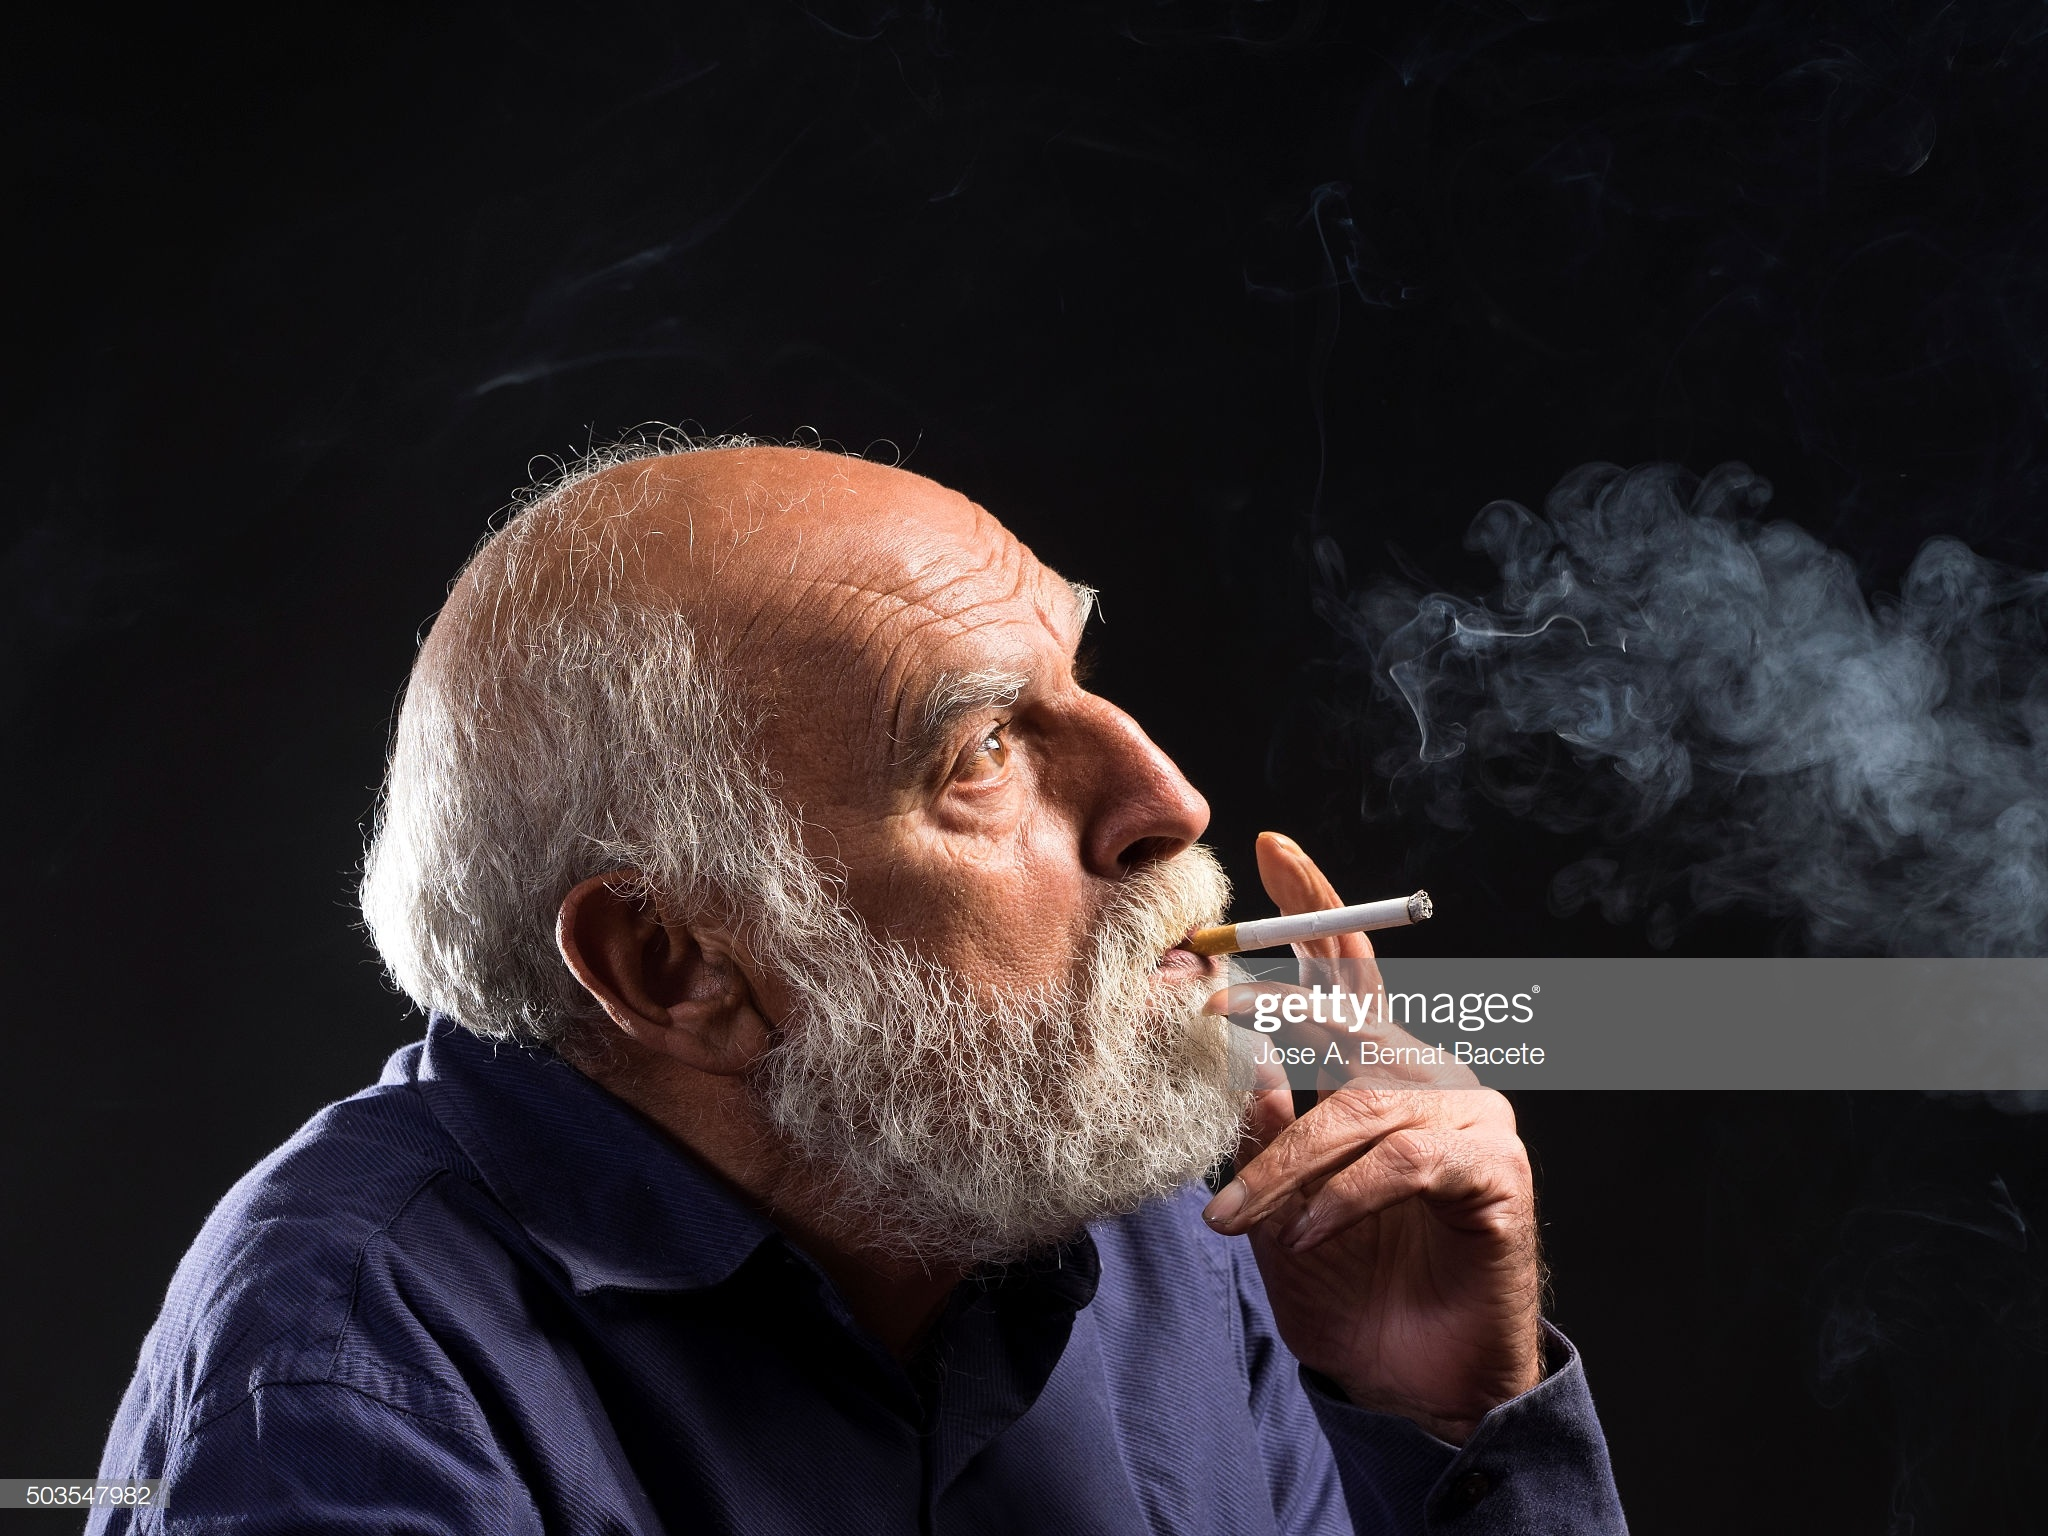sigaretta: (1155, 889, 1459, 971)
